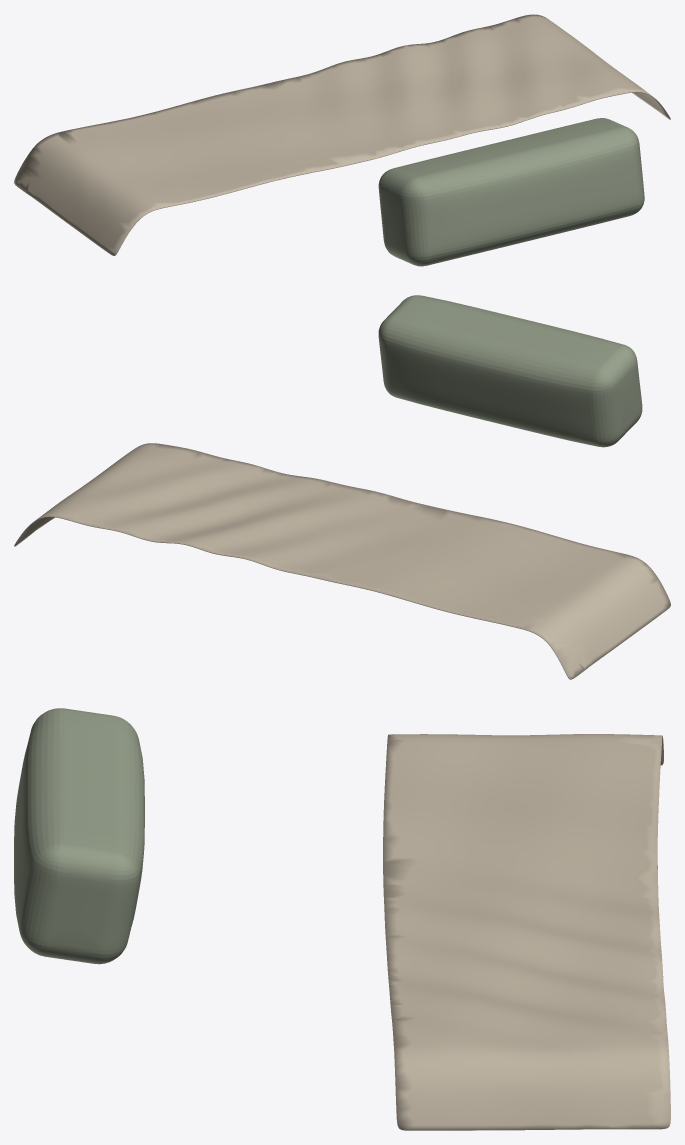
File: bed-linen-light.glb
3 renders of one model, top to bottom at view 1: azimuth 30°, elevation 25°; view 2: azimuth 150°, elevation 25°; view 3: azimuth 270°, elevation 25°, orthographic. The views are drawn at different scales.
Visible parts, largest first — view 1: Washed linen runner with settled folds, Soft sage lumbar cushion; view 2: Washed linen runner with settled folds, Soft sage lumbar cushion; view 3: Washed linen runner with settled folds, Soft sage lumbar cushion.
Boxes of the visible parts, <box> form: Washed linen runner with settled folds: <box>14,14,670,255</box>; Soft sage lumbar cushion: <box>378,118,644,266</box>; Washed linen runner with settled folds: <box>14,443,670,679</box>; Soft sage lumbar cushion: <box>378,295,642,447</box>; Washed linen runner with settled folds: <box>383,734,670,1130</box>; Soft sage lumbar cushion: <box>14,708,144,964</box>.
Bounding box in the file's own units: 1.63 × 0.3602 × 1.24.
